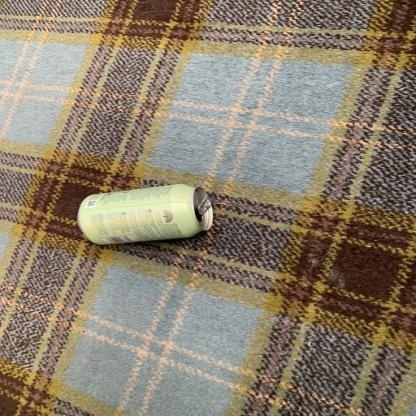trash: (77, 184, 212, 244)
